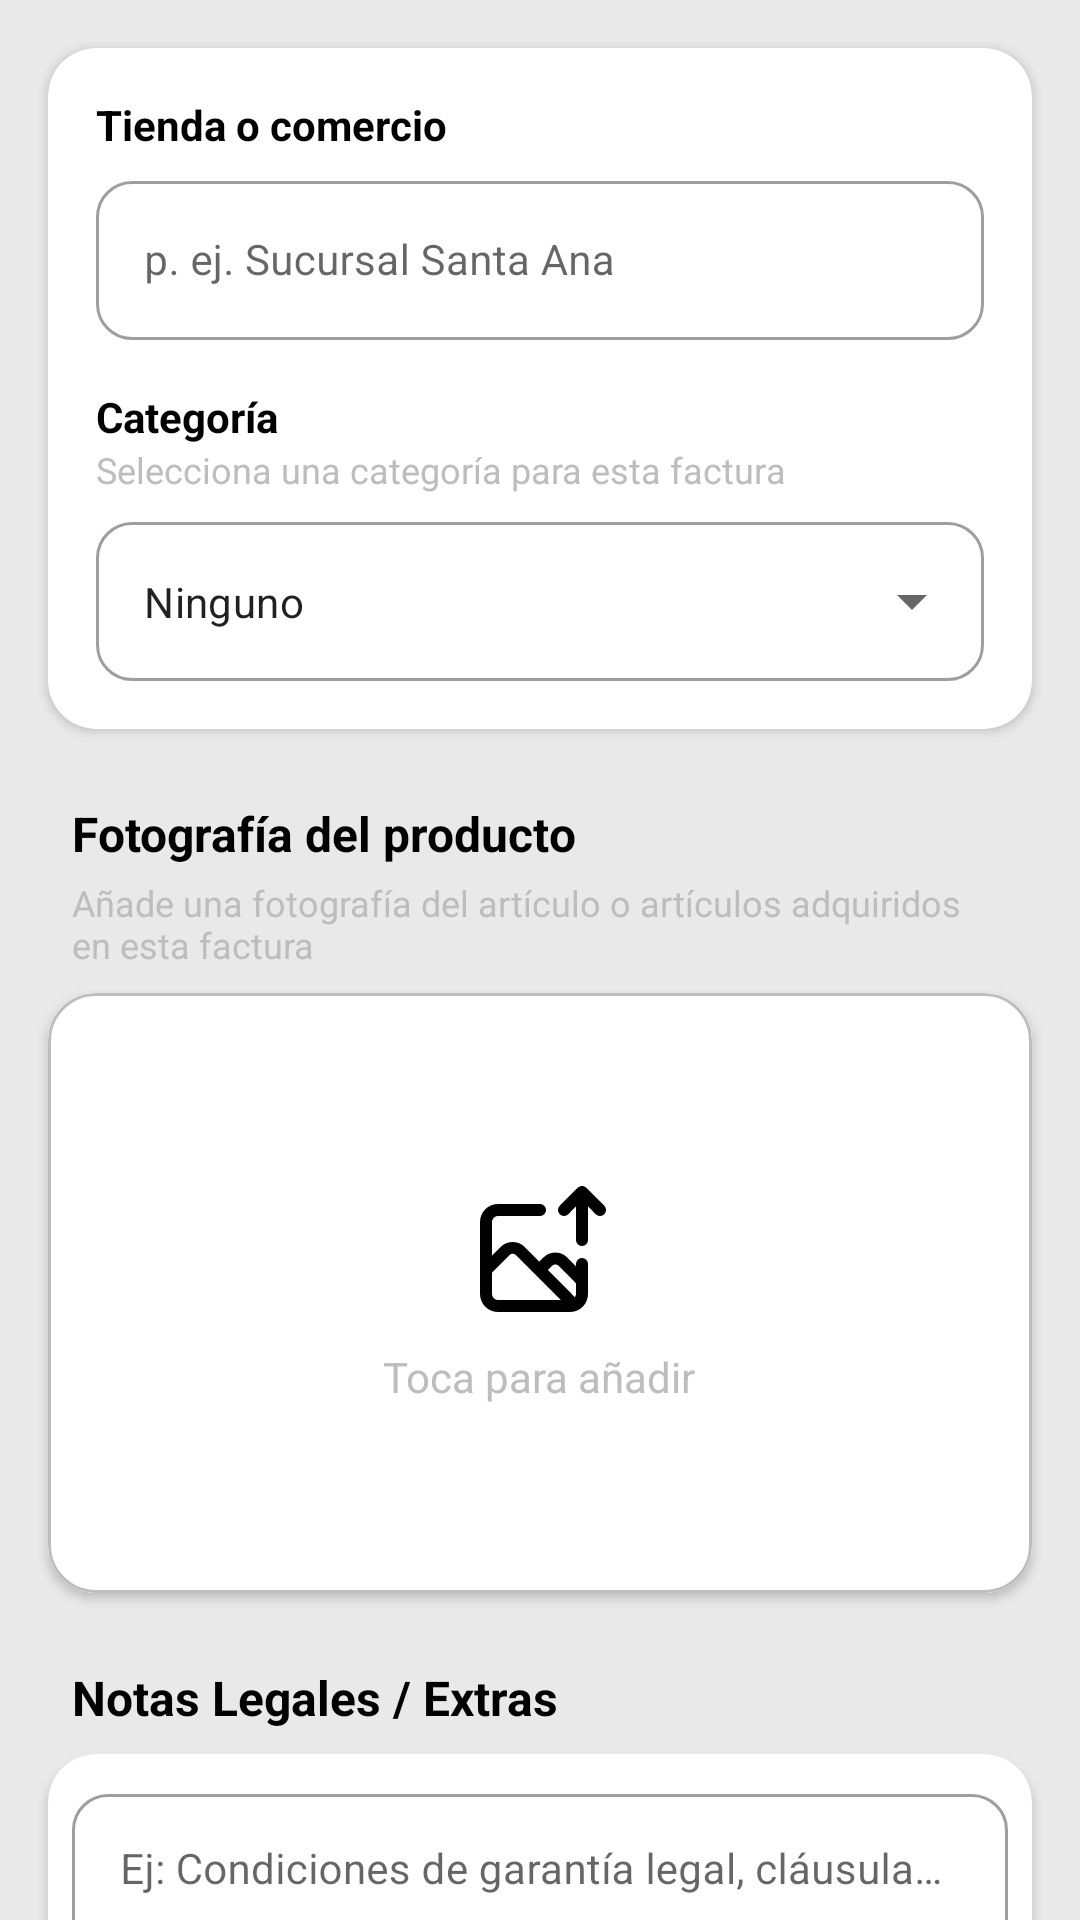

Screen size 1080x1920. Icon name, then its center in pixels as [x,y]:
Añadir foto: [543,1249]
